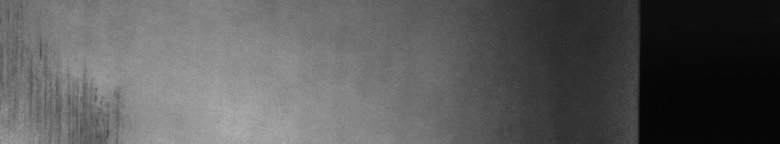ka: (28, 42, 120, 136)
